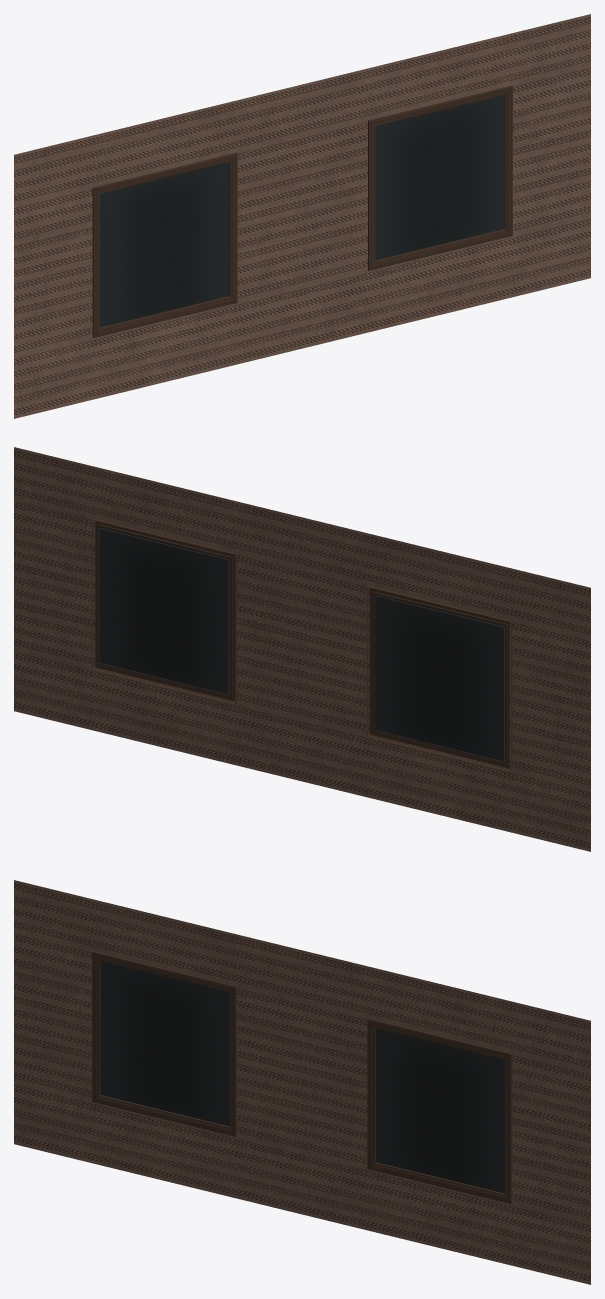
Rendered from House_03_Window_03.fbx.
3 views of the same model, one above another, from view 1: azimuth 30°, elevation 25°; view 2: azimuth 150°, elevation 25°; view 3: azimuth 330°, elevation 25° (orthographic).
Visible parts, largest first — view 1: House_03_Window_03; view 2: House_03_Window_03; view 3: House_03_Window_03.
Boxes of the visible parts, x1,y1,x2,y2 form: House_03_Window_03: (14,14,590,418); House_03_Window_03: (14,447,590,851); House_03_Window_03: (14,880,590,1284).
Size of the model in its own units: 400 by 175 by 2.86.
